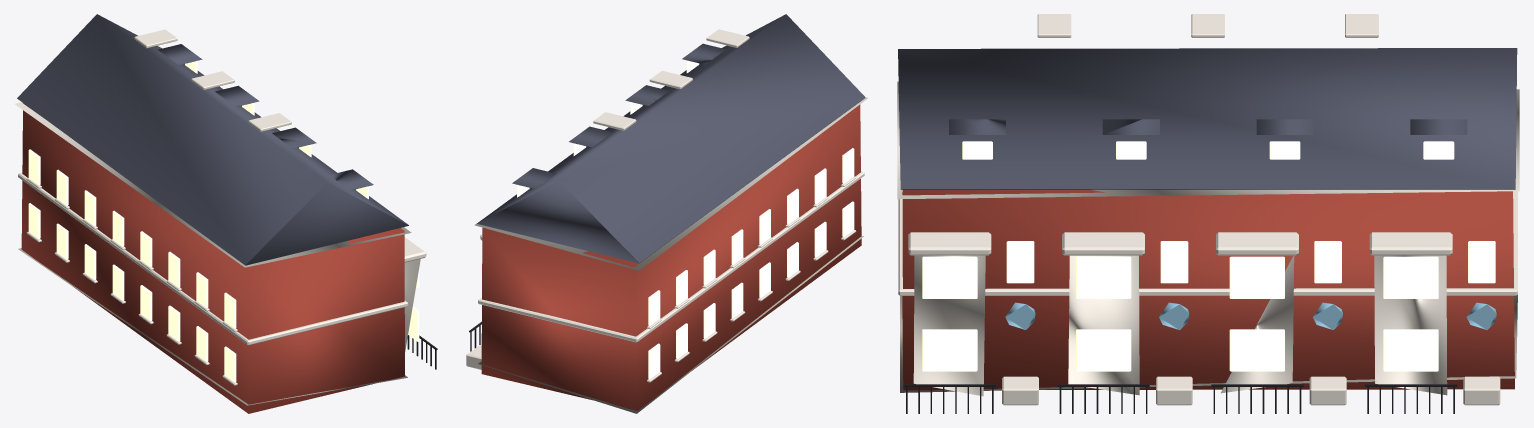
Rendered from townhouse_row.glb.
3 views of the same model, side by side, from view 1: azimuth 30°, elevation 25°; view 2: azimuth 150°, elevation 25°; view 3: azimuth 270°, elevation 25° (orthographic). The views are drawn at different scales.
Visible parts, largest first — view 1: townhouse_row; view 2: townhouse_row; view 3: townhouse_row.
Boxes of the visible parts, x1,y1,x2,y2 form: townhouse_row: [15, 14, 437, 413]; townhouse_row: [466, 14, 867, 413]; townhouse_row: [897, 14, 1519, 413].
Bounding box in the file's own units: 9.87 × 11.37 × 20.24.
Materials: 1 (1 with a texture image).
